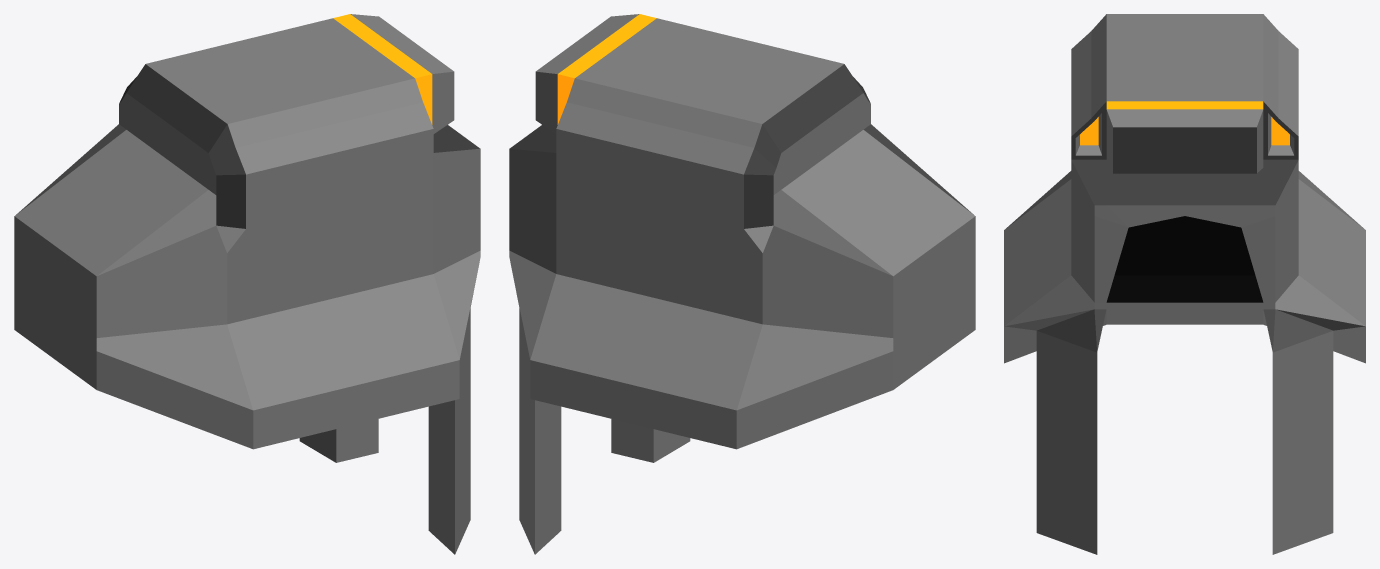
File: TunnelEntrance_004.fbx
3 renders of one model, left to right at view 1: azimuth 30°, elevation 25°; view 2: azimuth 150°, elevation 25°; view 3: azimuth 270°, elevation 25°, orthographic. The views are drawn at different scales.
Parts seen in each view (by area): view 1: TunnelEntrance.004; view 2: TunnelEntrance.004; view 3: TunnelEntrance.004.
Boxes of the visible parts, <box> form: TunnelEntrance.004: <box>14,14,480,554</box>; TunnelEntrance.004: <box>509,14,975,554</box>; TunnelEntrance.004: <box>1004,14,1365,554</box>.
Bounding box in the file's own units: 29034 × 33040 × 25200.
